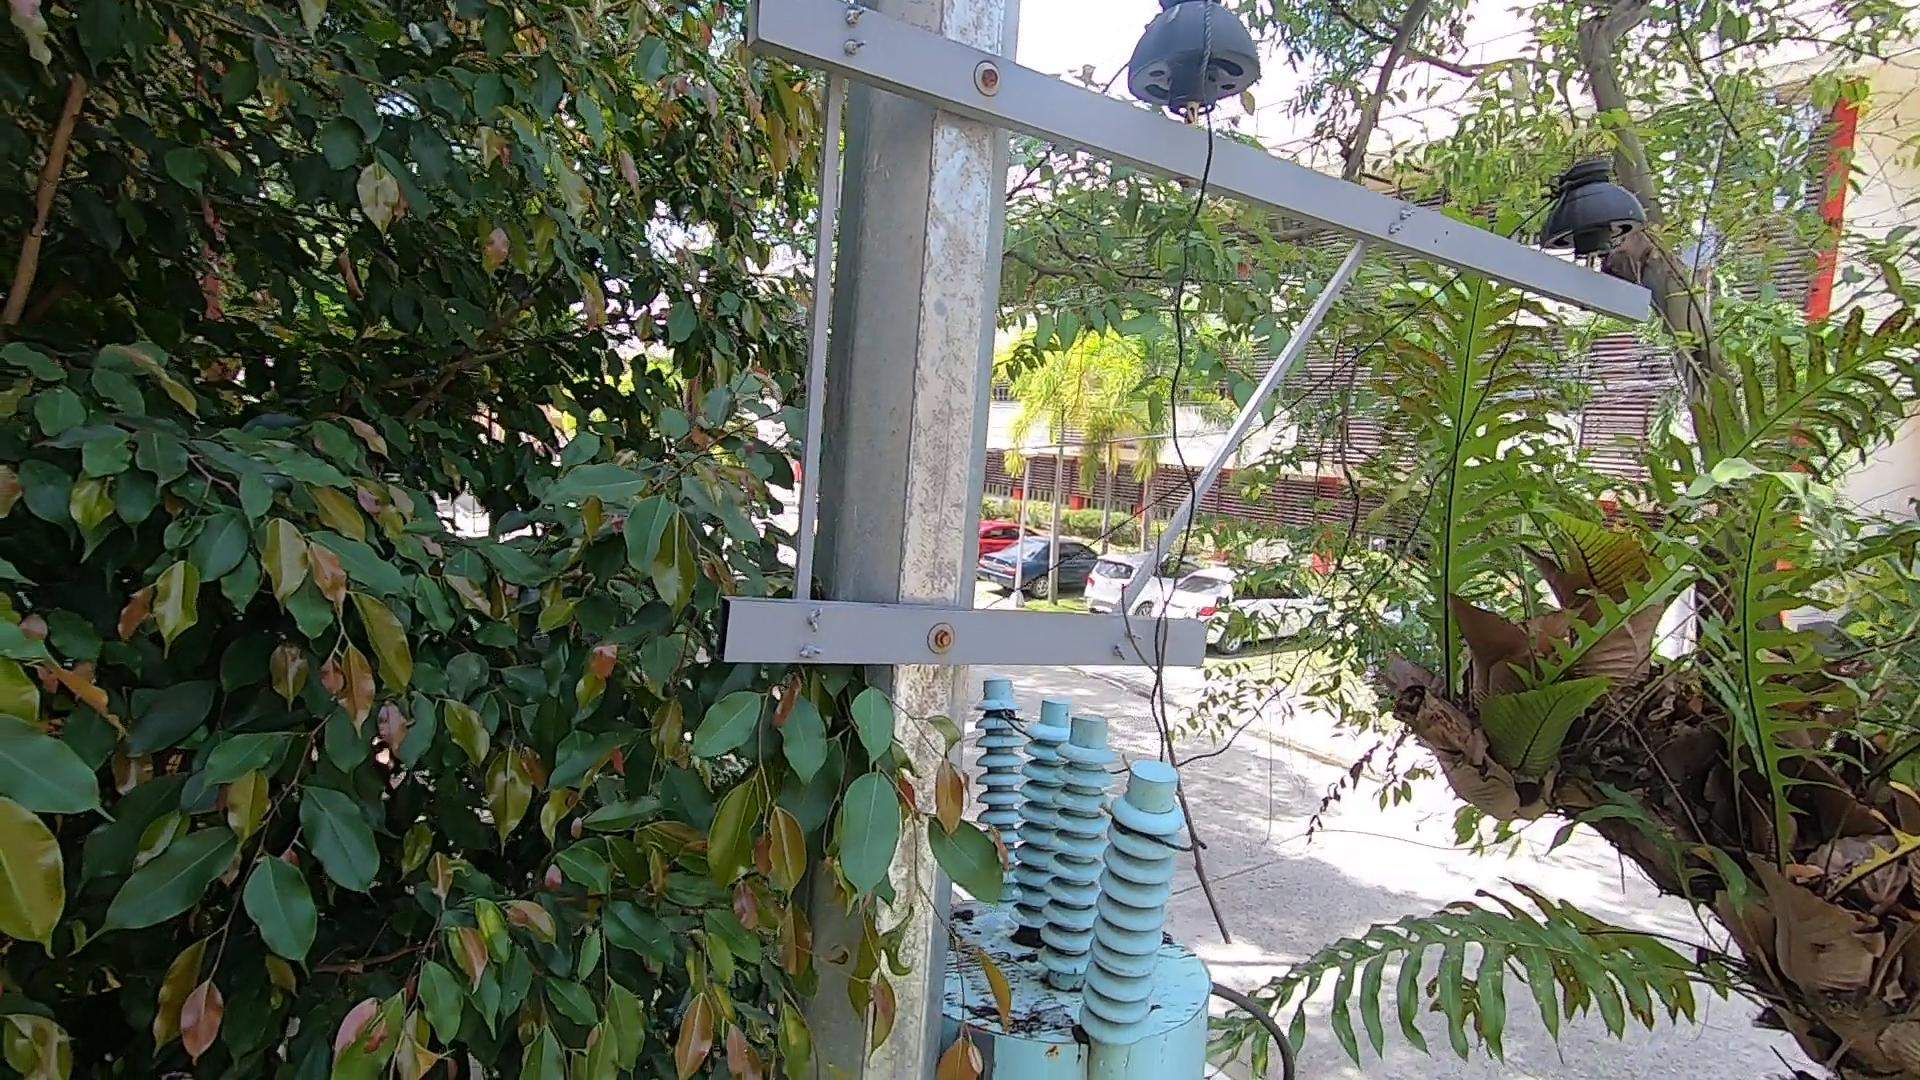tree branch: (1104, 527, 1251, 955)
